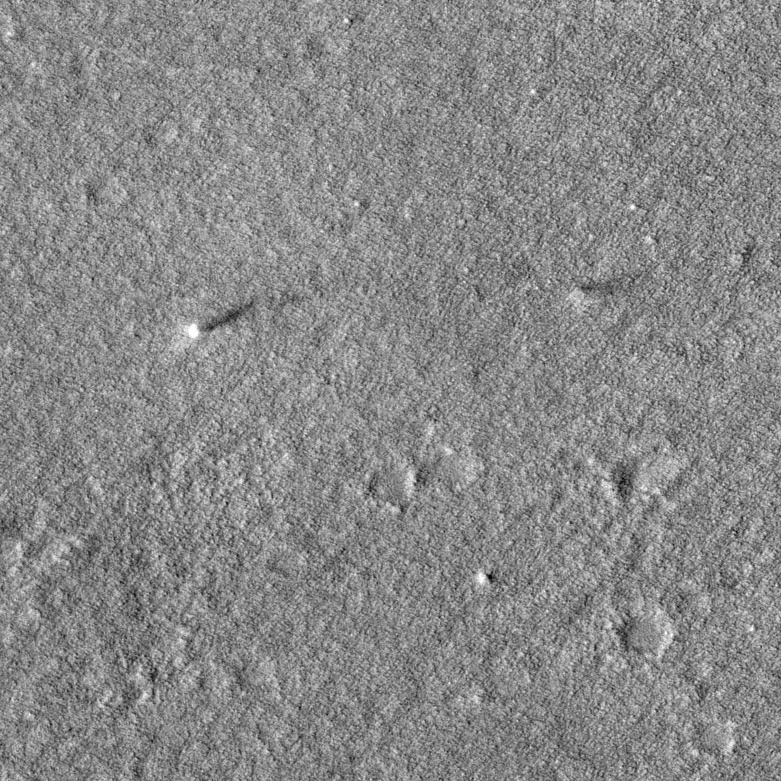dust_devil: (566, 268, 648, 313), (187, 296, 257, 340)
